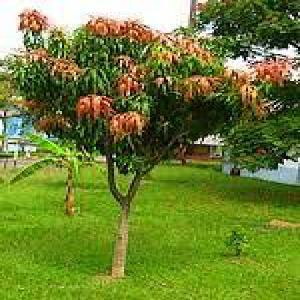Tree: (12, 7, 294, 278)
